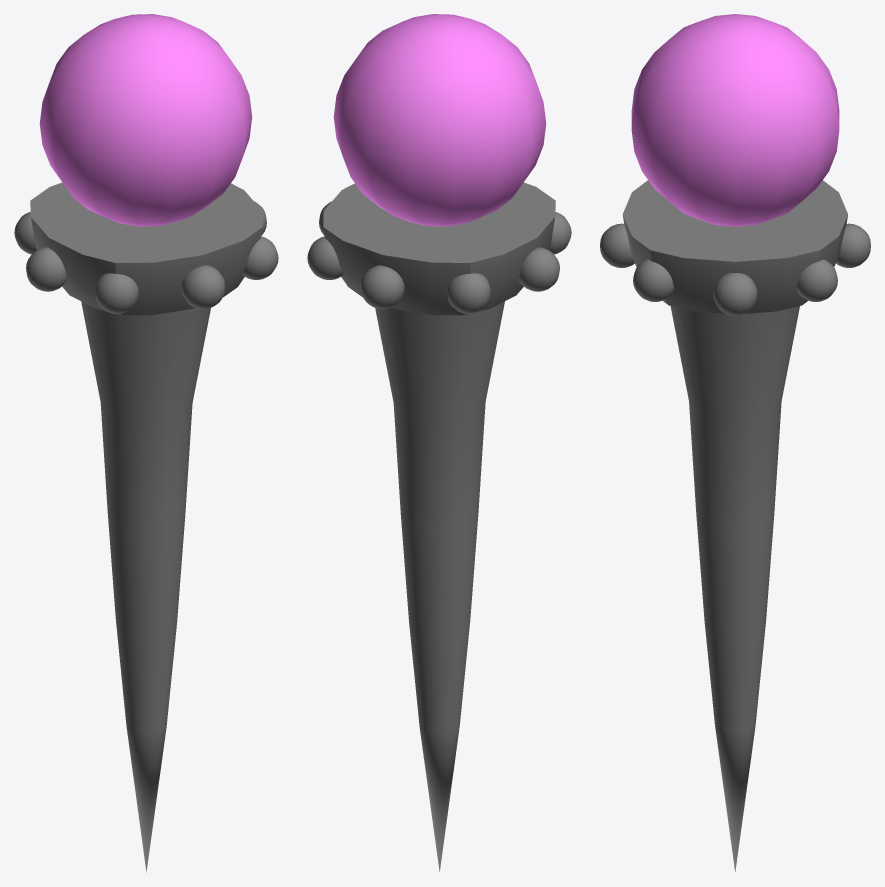
The model's file is rod.obj.
The picture shows the model from 3 angles, left to right: view 1: azimuth 30°, elevation 25°; view 2: azimuth 150°, elevation 25°; view 3: azimuth 270°, elevation 25°; orthographic projection.
Parts seen in each view (by area): view 1: polySurface807; view 2: polySurface807; view 3: polySurface807.
Part boxes in pixels (left/top/right/bottom): polySurface807: left=14, top=14, right=278, bottom=872; polySurface807: left=307, top=14, right=571, bottom=871; polySurface807: left=600, top=14, right=870, bottom=871.
Bounding box in the file's own units: 1.2 × 4.15 × 1.2.
1 material, 1 textured.
